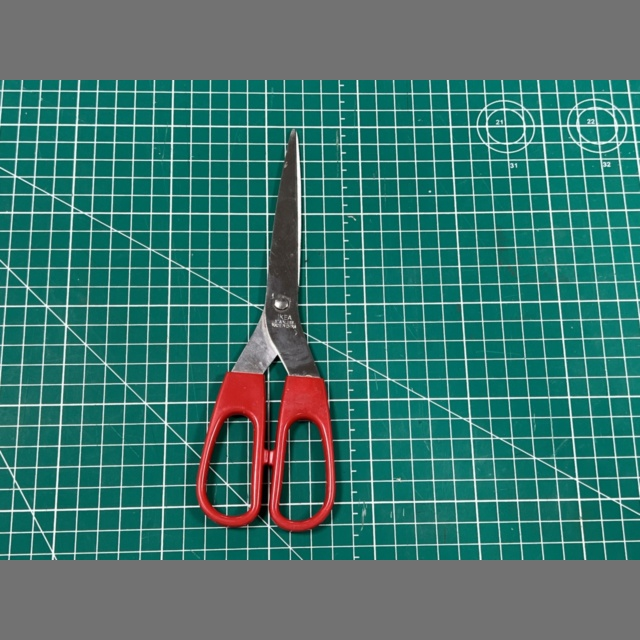scissor: (196, 130, 336, 532)
